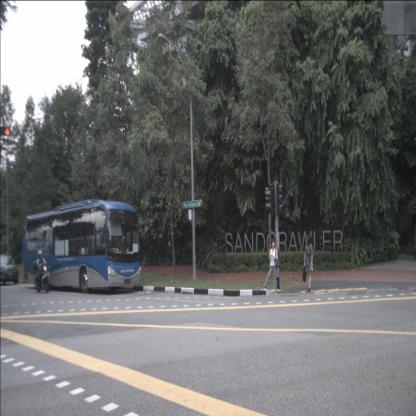human-pedestrian-adult: (261, 238, 281, 294), (302, 235, 314, 292)
vehicle-bus-rigid: (22, 199, 141, 293)
vehicle-car: (0, 254, 19, 285)
vehicle-motorcycle: (32, 250, 51, 293)
